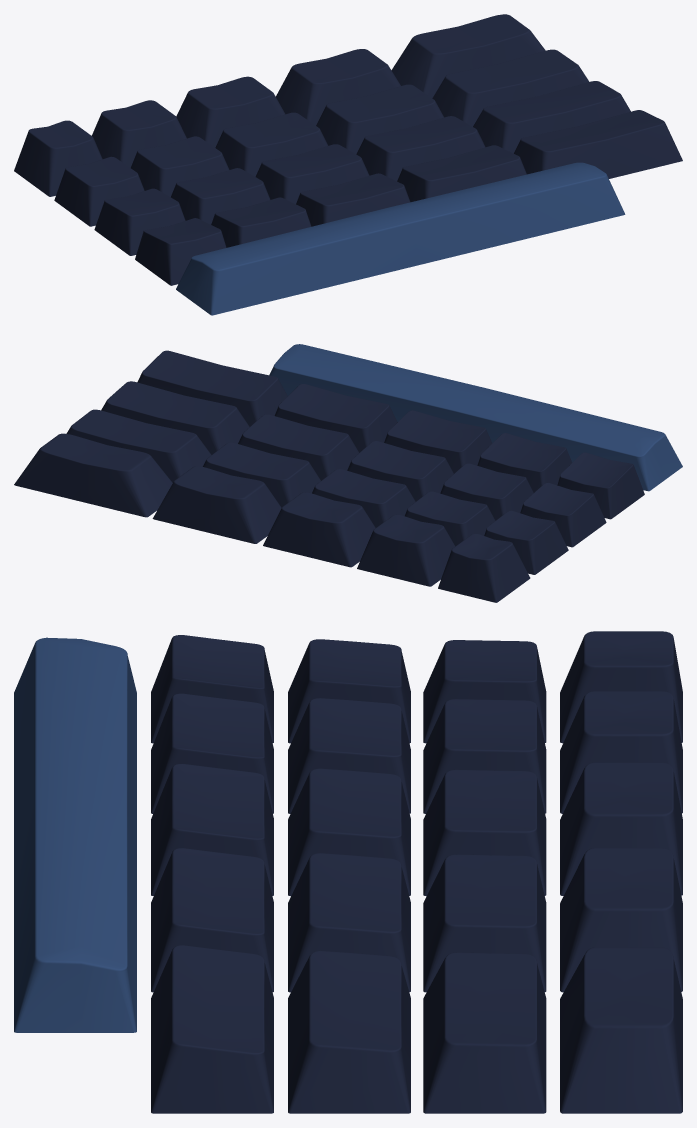
File: keycaps.glb
3 renders of one model, top to bottom at view 1: azimuth 30°, elevation 25°; view 2: azimuth 150°, elevation 25°; view 3: azimuth 270°, elevation 25°, orthographic. The views are drawn at different scales.
Visible parts, largest first — view 1: Space_6.25, R4_2.25, R1_2.25, R2_2.25, R3_2.25, R1_1.75, R2_1.75, R3_1.75, R1_1.50, R4_1.75, R2_1.50, R3_1.50 (+9 smaller); view 2: Space_6.25, R1_2.25, R1_1.75, R1_1.50, R4_2.25, R3_2.25, R1_1.25, R2_2.25, R4_1.75, R1_1.00, R3_1.75, R4_1.50 (+9 smaller); view 3: Space_6.25, R1_2.25, R4_2.25, R2_2.25, R3_2.25, R1_1.75, R2_1.75, R3_1.75, R4_1.75, R1_1.50, R2_1.50, R3_1.50 (+9 smaller).
Part boxes in pixels (box(x1,y1,x2,y2)): Space_6.25: box(176, 162, 625, 315); R4_2.25: box(514, 110, 682, 178); R1_2.25: box(391, 14, 545, 98); R2_2.25: box(432, 49, 589, 126); R3_2.25: box(473, 81, 630, 153); R1_1.75: box(276, 49, 400, 125); R2_1.75: box(316, 84, 443, 153); R3_1.75: box(356, 116, 485, 181); R1_1.50: box(176, 76, 285, 147); R4_1.75: box(397, 145, 526, 201); R2_1.50: box(215, 112, 328, 176); R3_1.50: box(255, 144, 369, 204); Space_6.25: box(269, 344, 682, 491); R1_2.25: box(14, 433, 172, 517); R1_1.75: box(152, 466, 281, 543); R1_1.50: box(263, 492, 375, 567); R4_2.25: box(137, 350, 287, 426); R3_2.25: box(101, 381, 249, 454); R1_1.25: box(357, 514, 455, 586); R2_2.25: box(66, 409, 211, 482); R4_1.75: box(274, 384, 397, 452); R1_1.00: box(438, 533, 530, 602); R3_1.75: box(238, 414, 358, 480); R4_1.50: box(384, 410, 492, 473); Space_6.25: box(14, 637, 136, 1032); R1_2.25: box(560, 947, 682, 1113); R4_2.25: box(151, 945, 273, 1113); R2_2.25: box(423, 952, 546, 1113); R3_2.25: box(288, 950, 410, 1113); R1_1.75: box(560, 848, 682, 992); R2_1.75: box(423, 854, 546, 992); R3_1.75: box(288, 853, 410, 992); R4_1.75: box(151, 848, 273, 992); R1_1.50: box(560, 762, 682, 895); R2_1.50: box(423, 769, 546, 896); R3_1.50: box(288, 768, 410, 896).
Bounding box in the file's own units: 0.1466 × 0.0111 × 0.0981.
